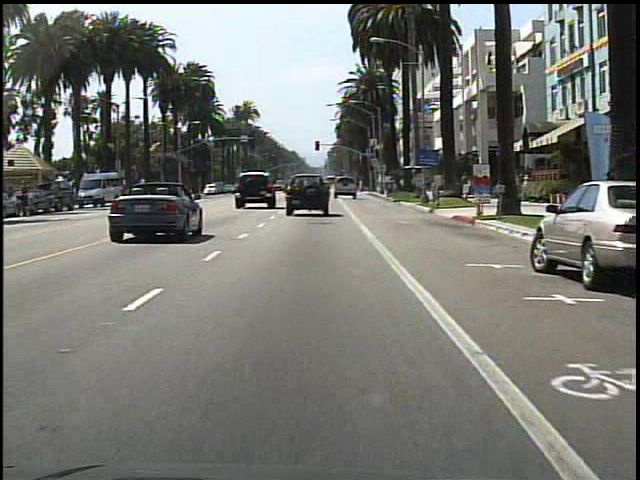person: (20, 177, 36, 220)
